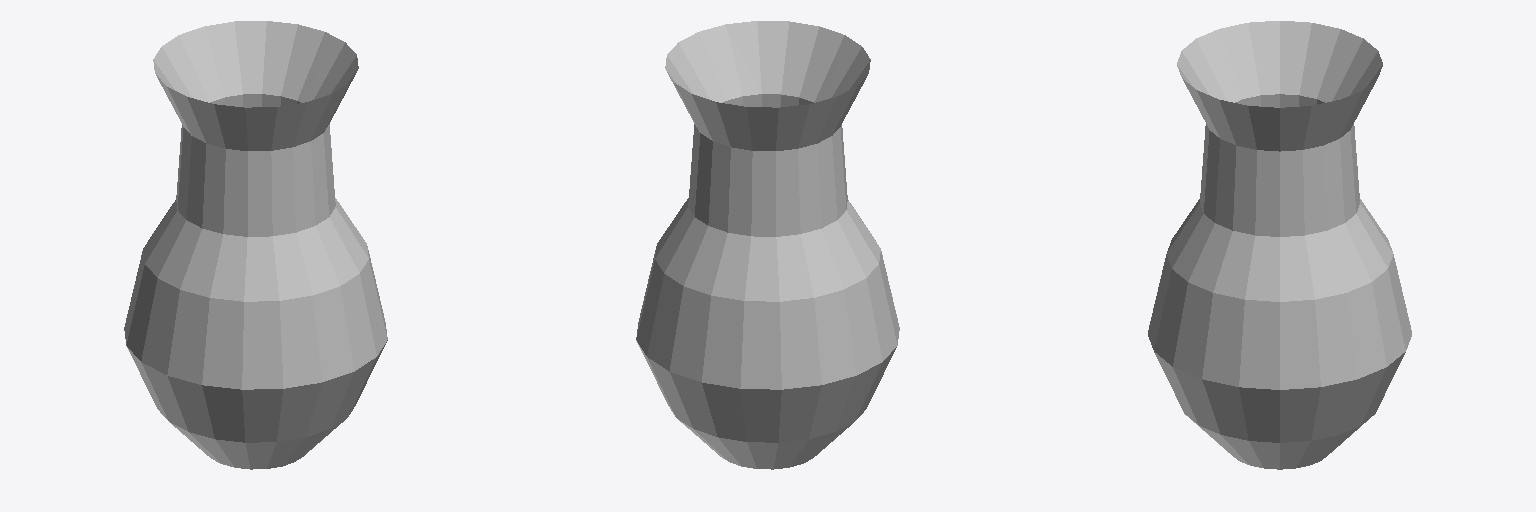
File: vase2.obj
3 views of the same model, side by side, from view 1: azimuth 30°, elevation 25°; view 2: azimuth 150°, elevation 25°; view 3: azimuth 270°, elevation 25° (orthographic).
Parts seen in each view (by area): view 1: vase2; view 2: vase2; view 3: vase2.
Boxes of the visible parts, <box> form: vase2: <box>124,21,387,469</box>; vase2: <box>636,21,899,469</box>; vase2: <box>1148,21,1411,469</box>.
Size of the model in its own units: 0.5861 by 0.9357 by 0.5861.